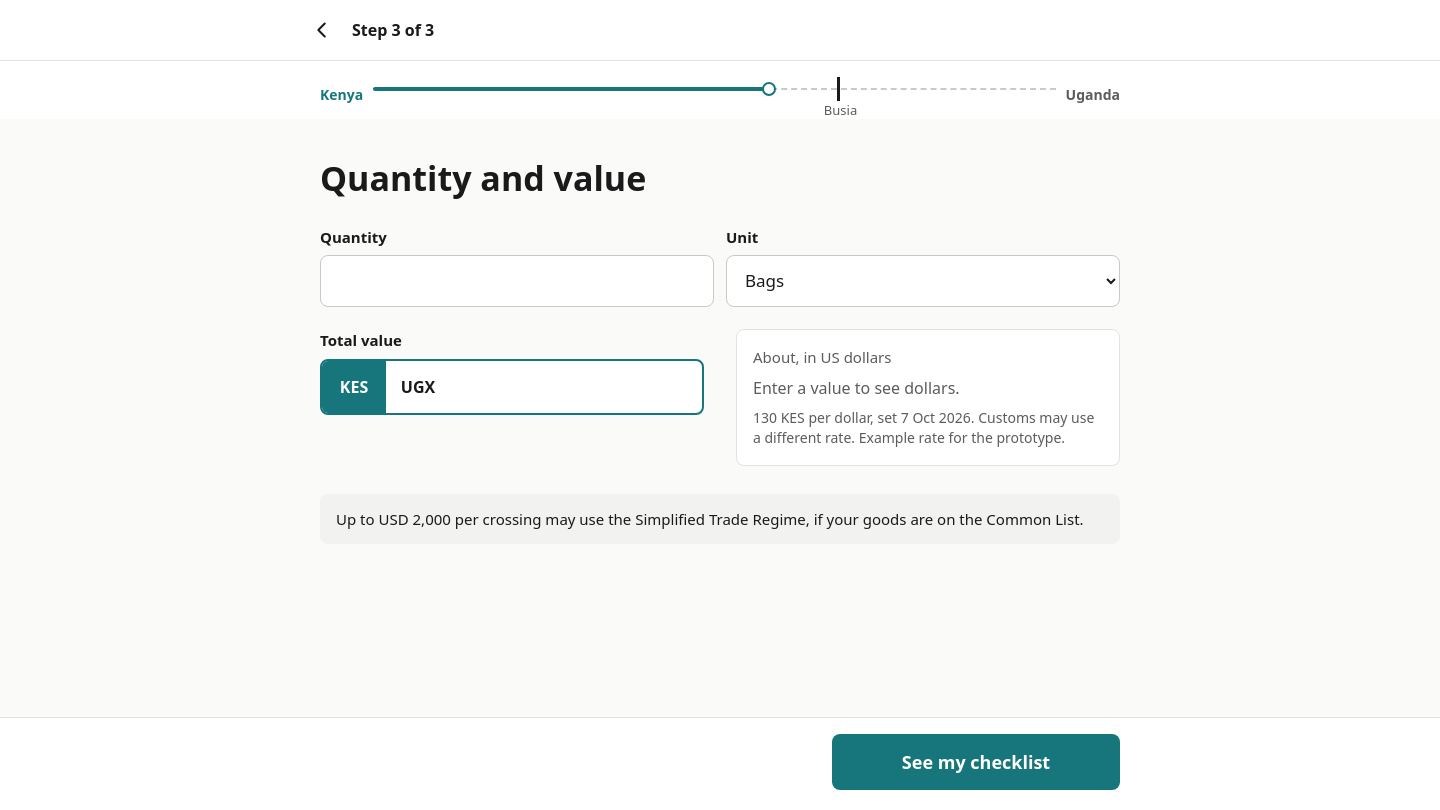
Scenario: value screen (step 3) › reconverts when the trader types and when they switch currency
In the field named "Total value in Kenyan shillings": (576,387) [450,361,702,413], type "26,000"
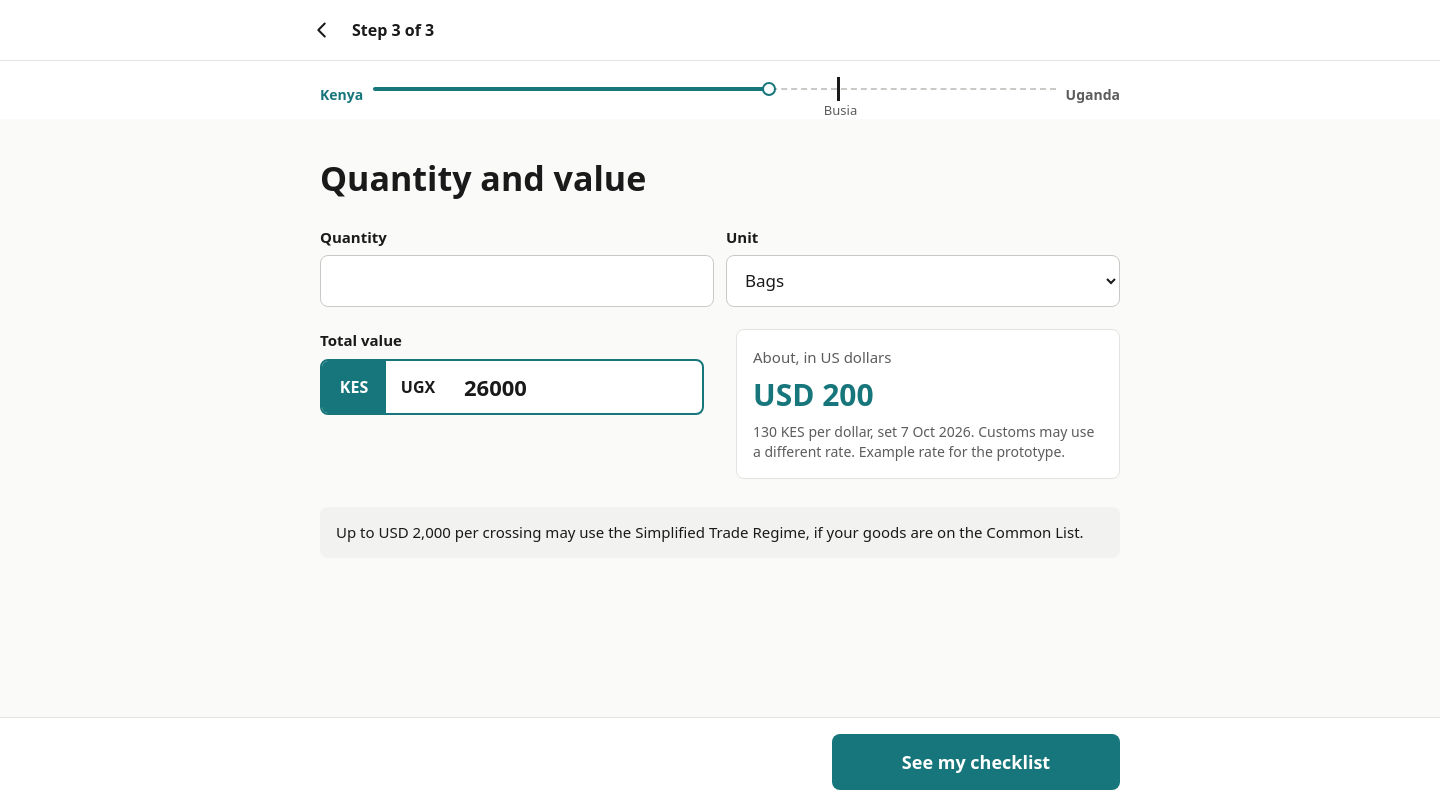
Check: the text "USD 200" is shown, box [753,374,874,415]
Click the button "UGX": (418,387) [386,361,450,413]
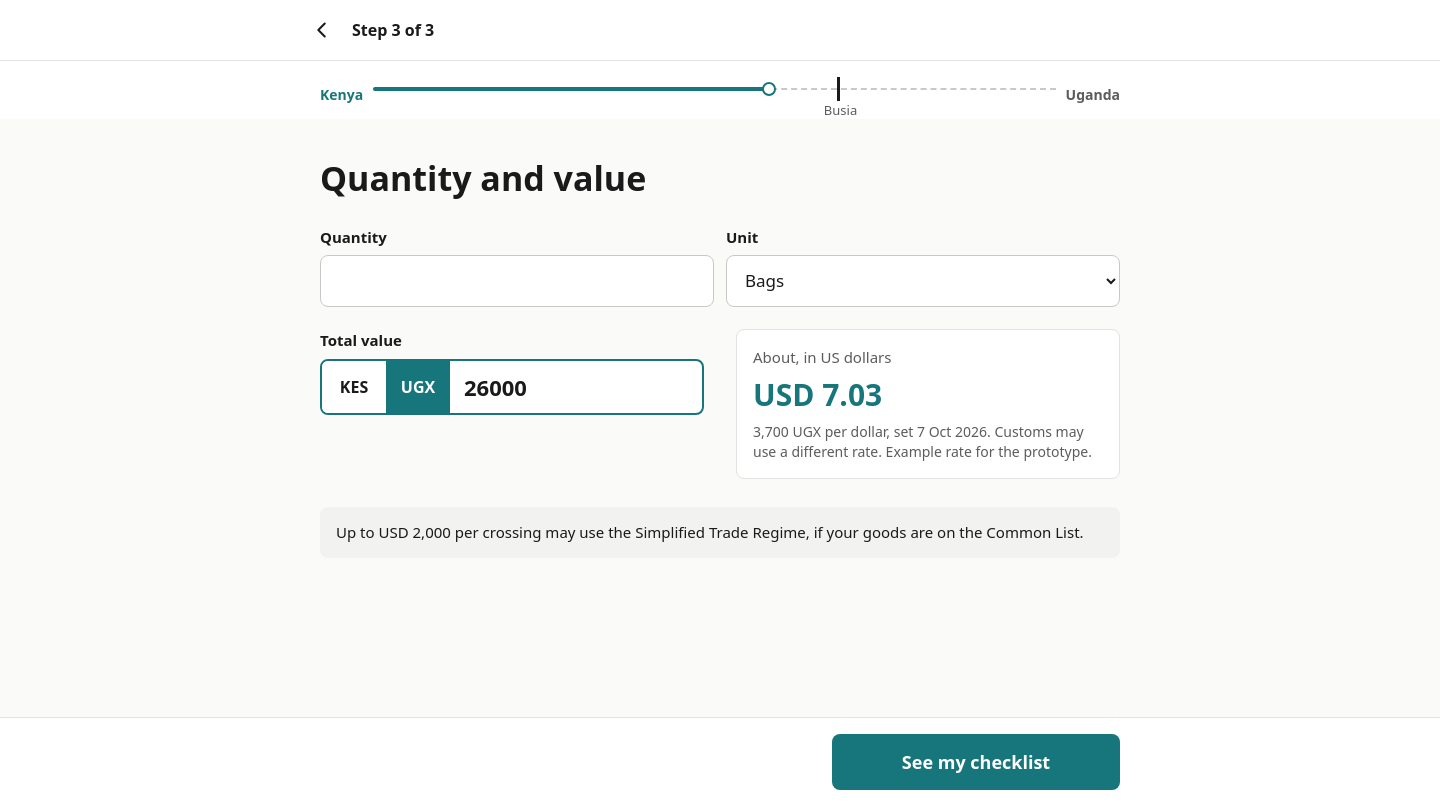
Check: the text "USD 7.03" is shown, box [753,374,882,415]
